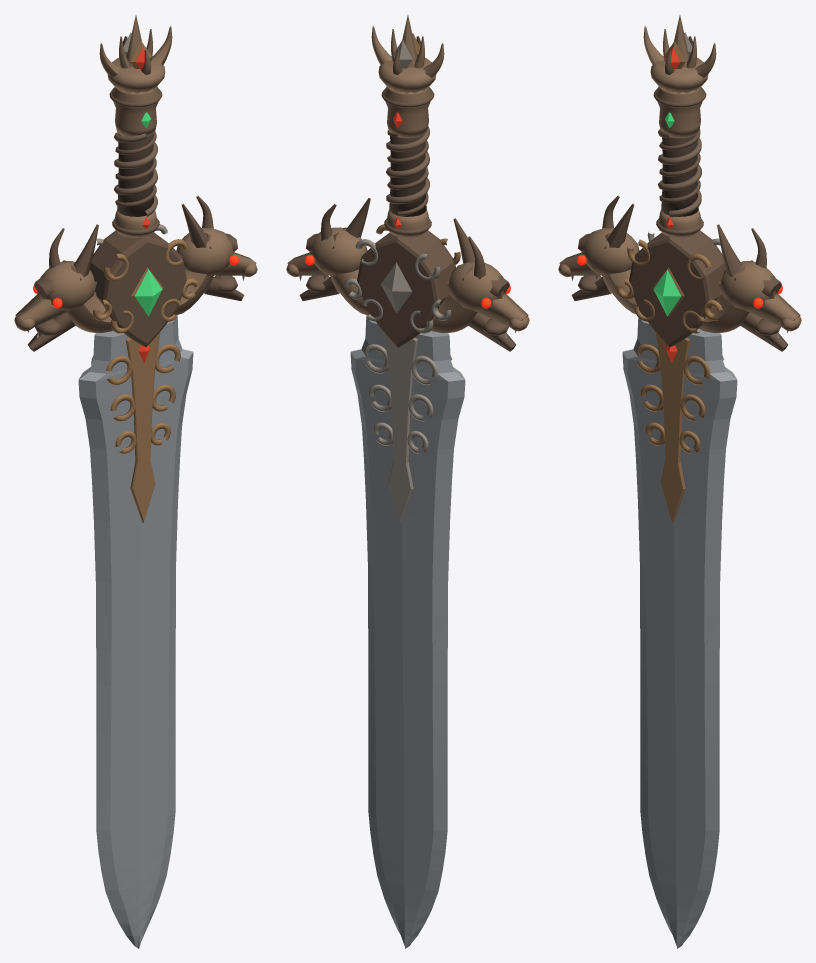
File: 03-sword.glb
3 views of the same model, side by side, from view 1: azimuth 30°, elevation 25°; view 2: azimuth 150°, elevation 25°; view 3: azimuth 330°, elevation 25° (orthographic).
Parts seen in each view (by area): view 1: Sword03; view 2: Sword03; view 3: Sword03.
Boxes of the visible parts, x1,y1,x2,y2 form: Sword03: (14, 15, 257, 948); Sword03: (286, 15, 529, 948); Sword03: (558, 15, 801, 948).
Bounding box in the file's own units: 0.2414 × 0.899 × 0.058.
